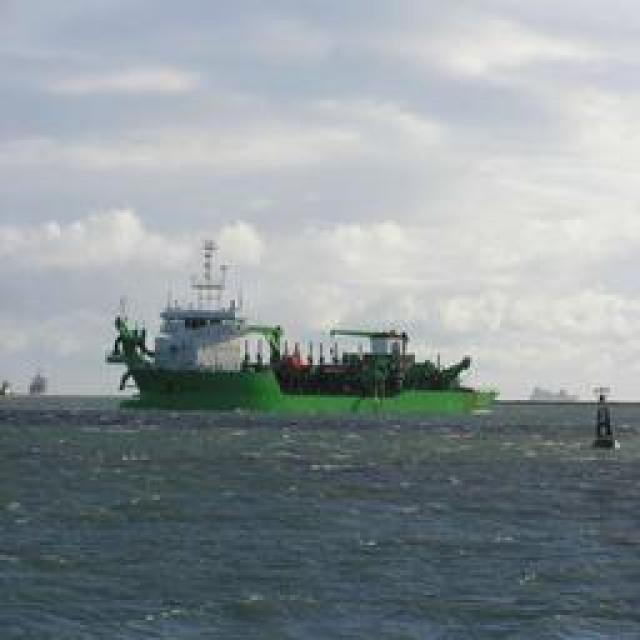CIV_Ship: (116, 228, 402, 402)
